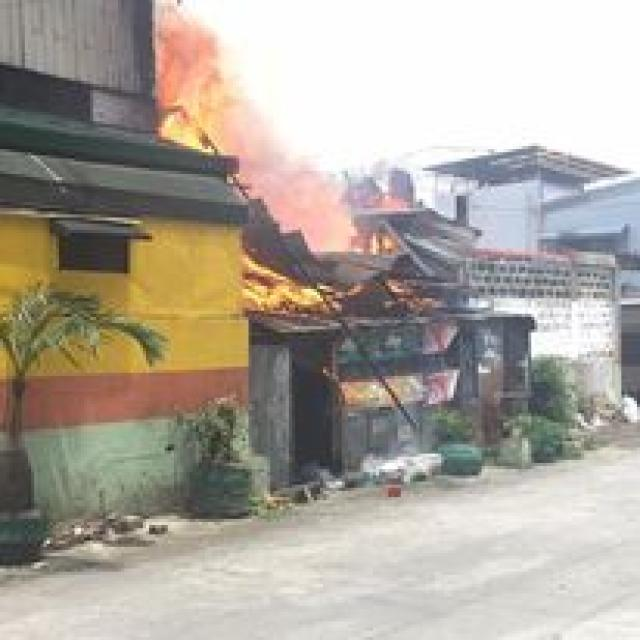Fire: (160, 19, 398, 321)
